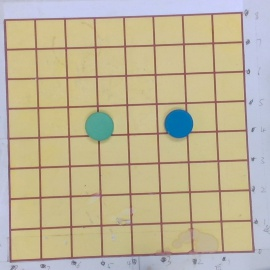blue: (163, 108, 194, 139)
green: (85, 112, 115, 142)
